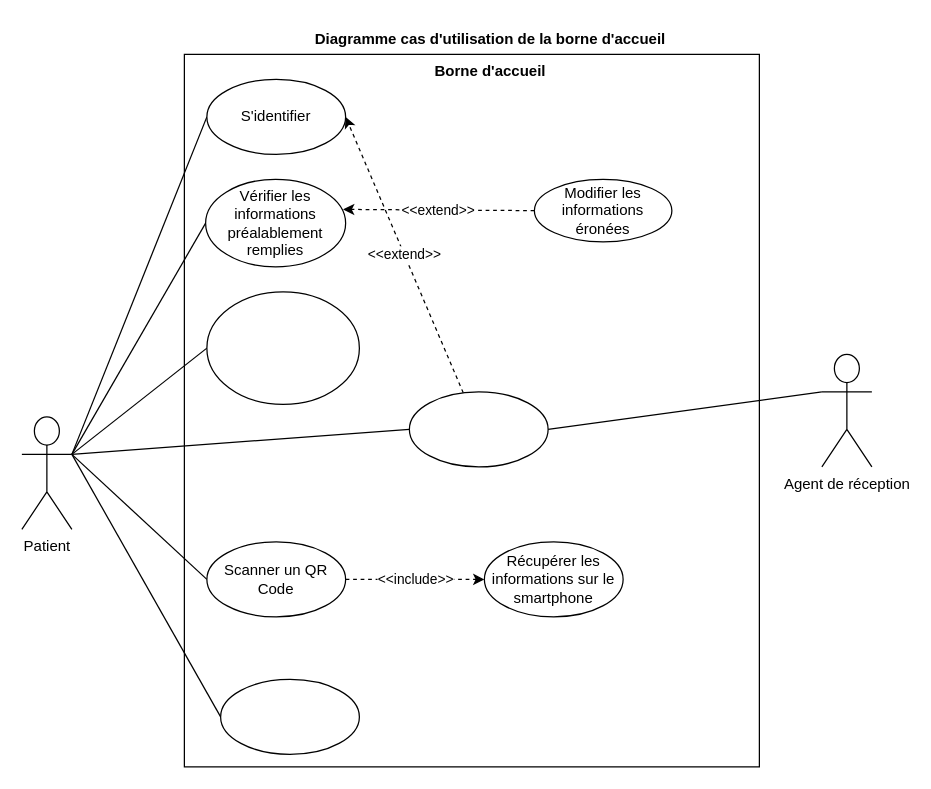
Image size: 931x789. Some labels were removed from this diagram. Here are the shapes that lost their labels. From the top down, the centre of each, then its label:
At [282,347]: "Consulter le service d'hospitalisation et la salle d'attente assignée".
At [478,429]: "Demander de l'aide".
At [289,716]: "Se deconnecter".
